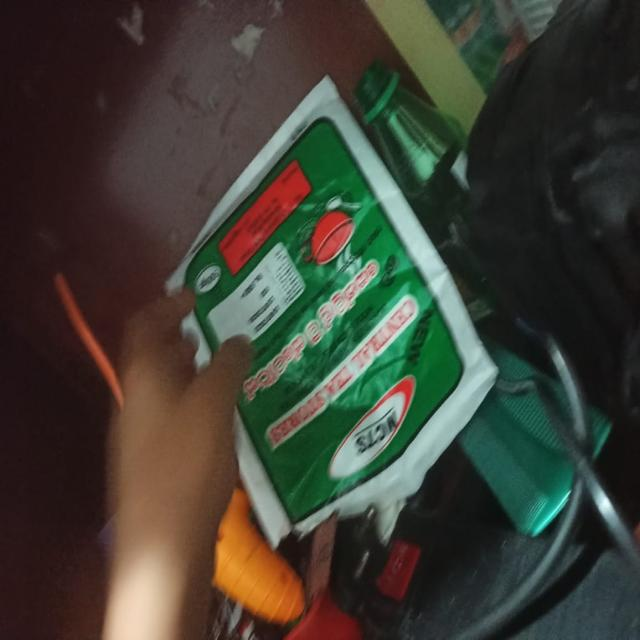Central Tea: (167, 160, 485, 515)
